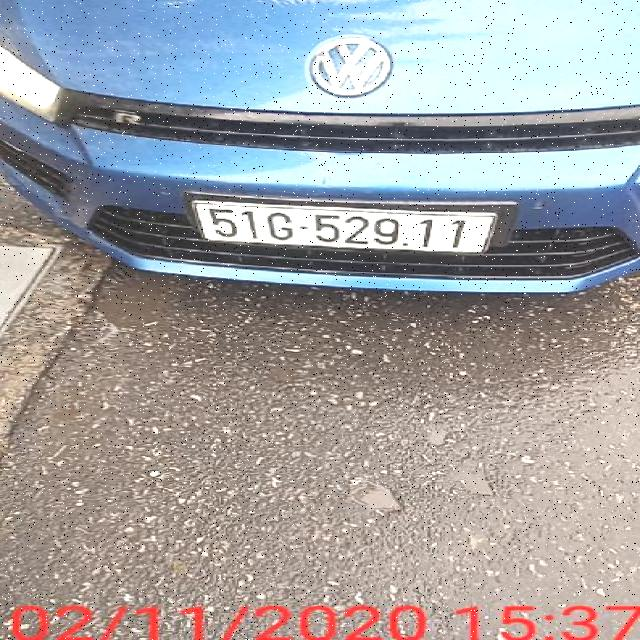1: (239, 209, 261, 243), (449, 217, 466, 250), (420, 217, 434, 249)
2: (340, 213, 370, 246)
5: (206, 206, 239, 240), (314, 214, 341, 244)
9: (373, 218, 403, 246)
G: (266, 211, 297, 242)
